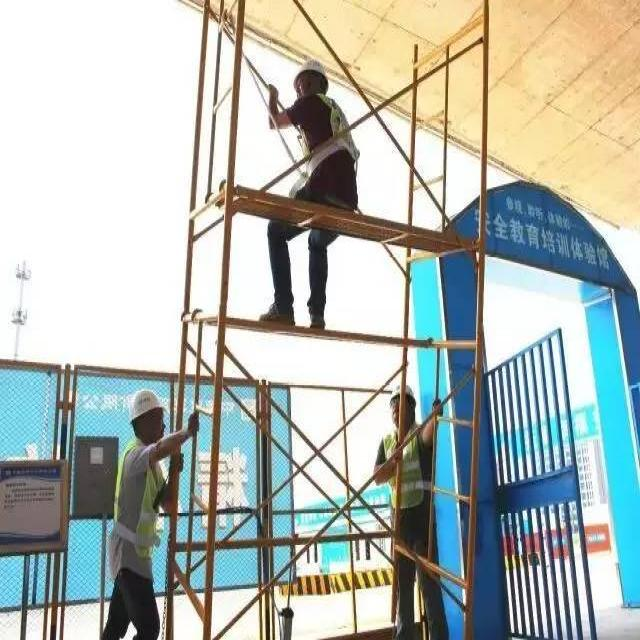Reflective-Jacket: (112, 438, 167, 560), (296, 94, 360, 170), (380, 422, 426, 510)
Safety-Helmet: (125, 384, 165, 423), (291, 55, 332, 87), (385, 377, 419, 409)
